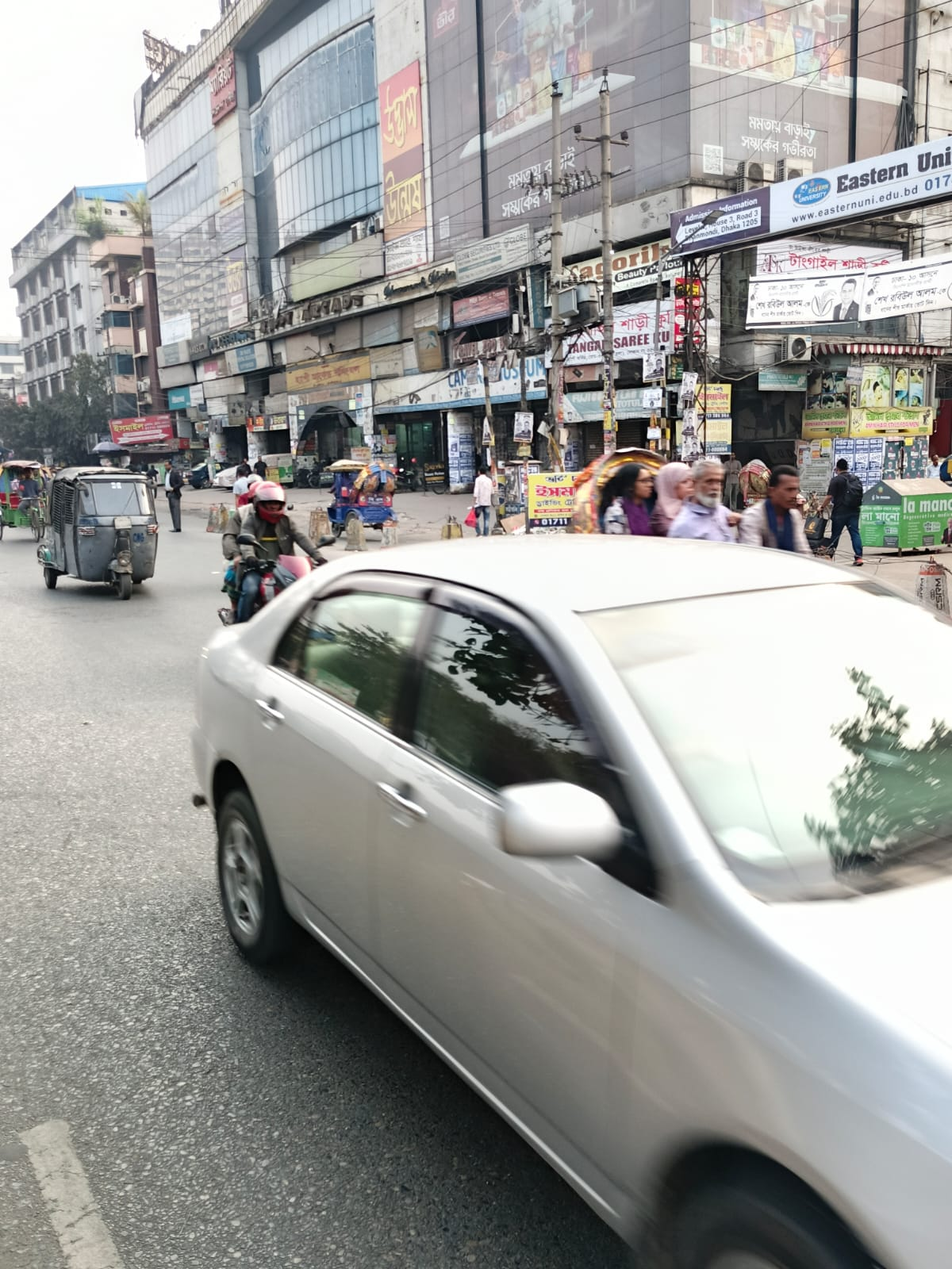Bikes: (214, 476, 321, 623)
auto-ricksaw: (322, 458, 404, 533)
cng: (12, 449, 180, 610)
private car: (163, 517, 952, 1269)
